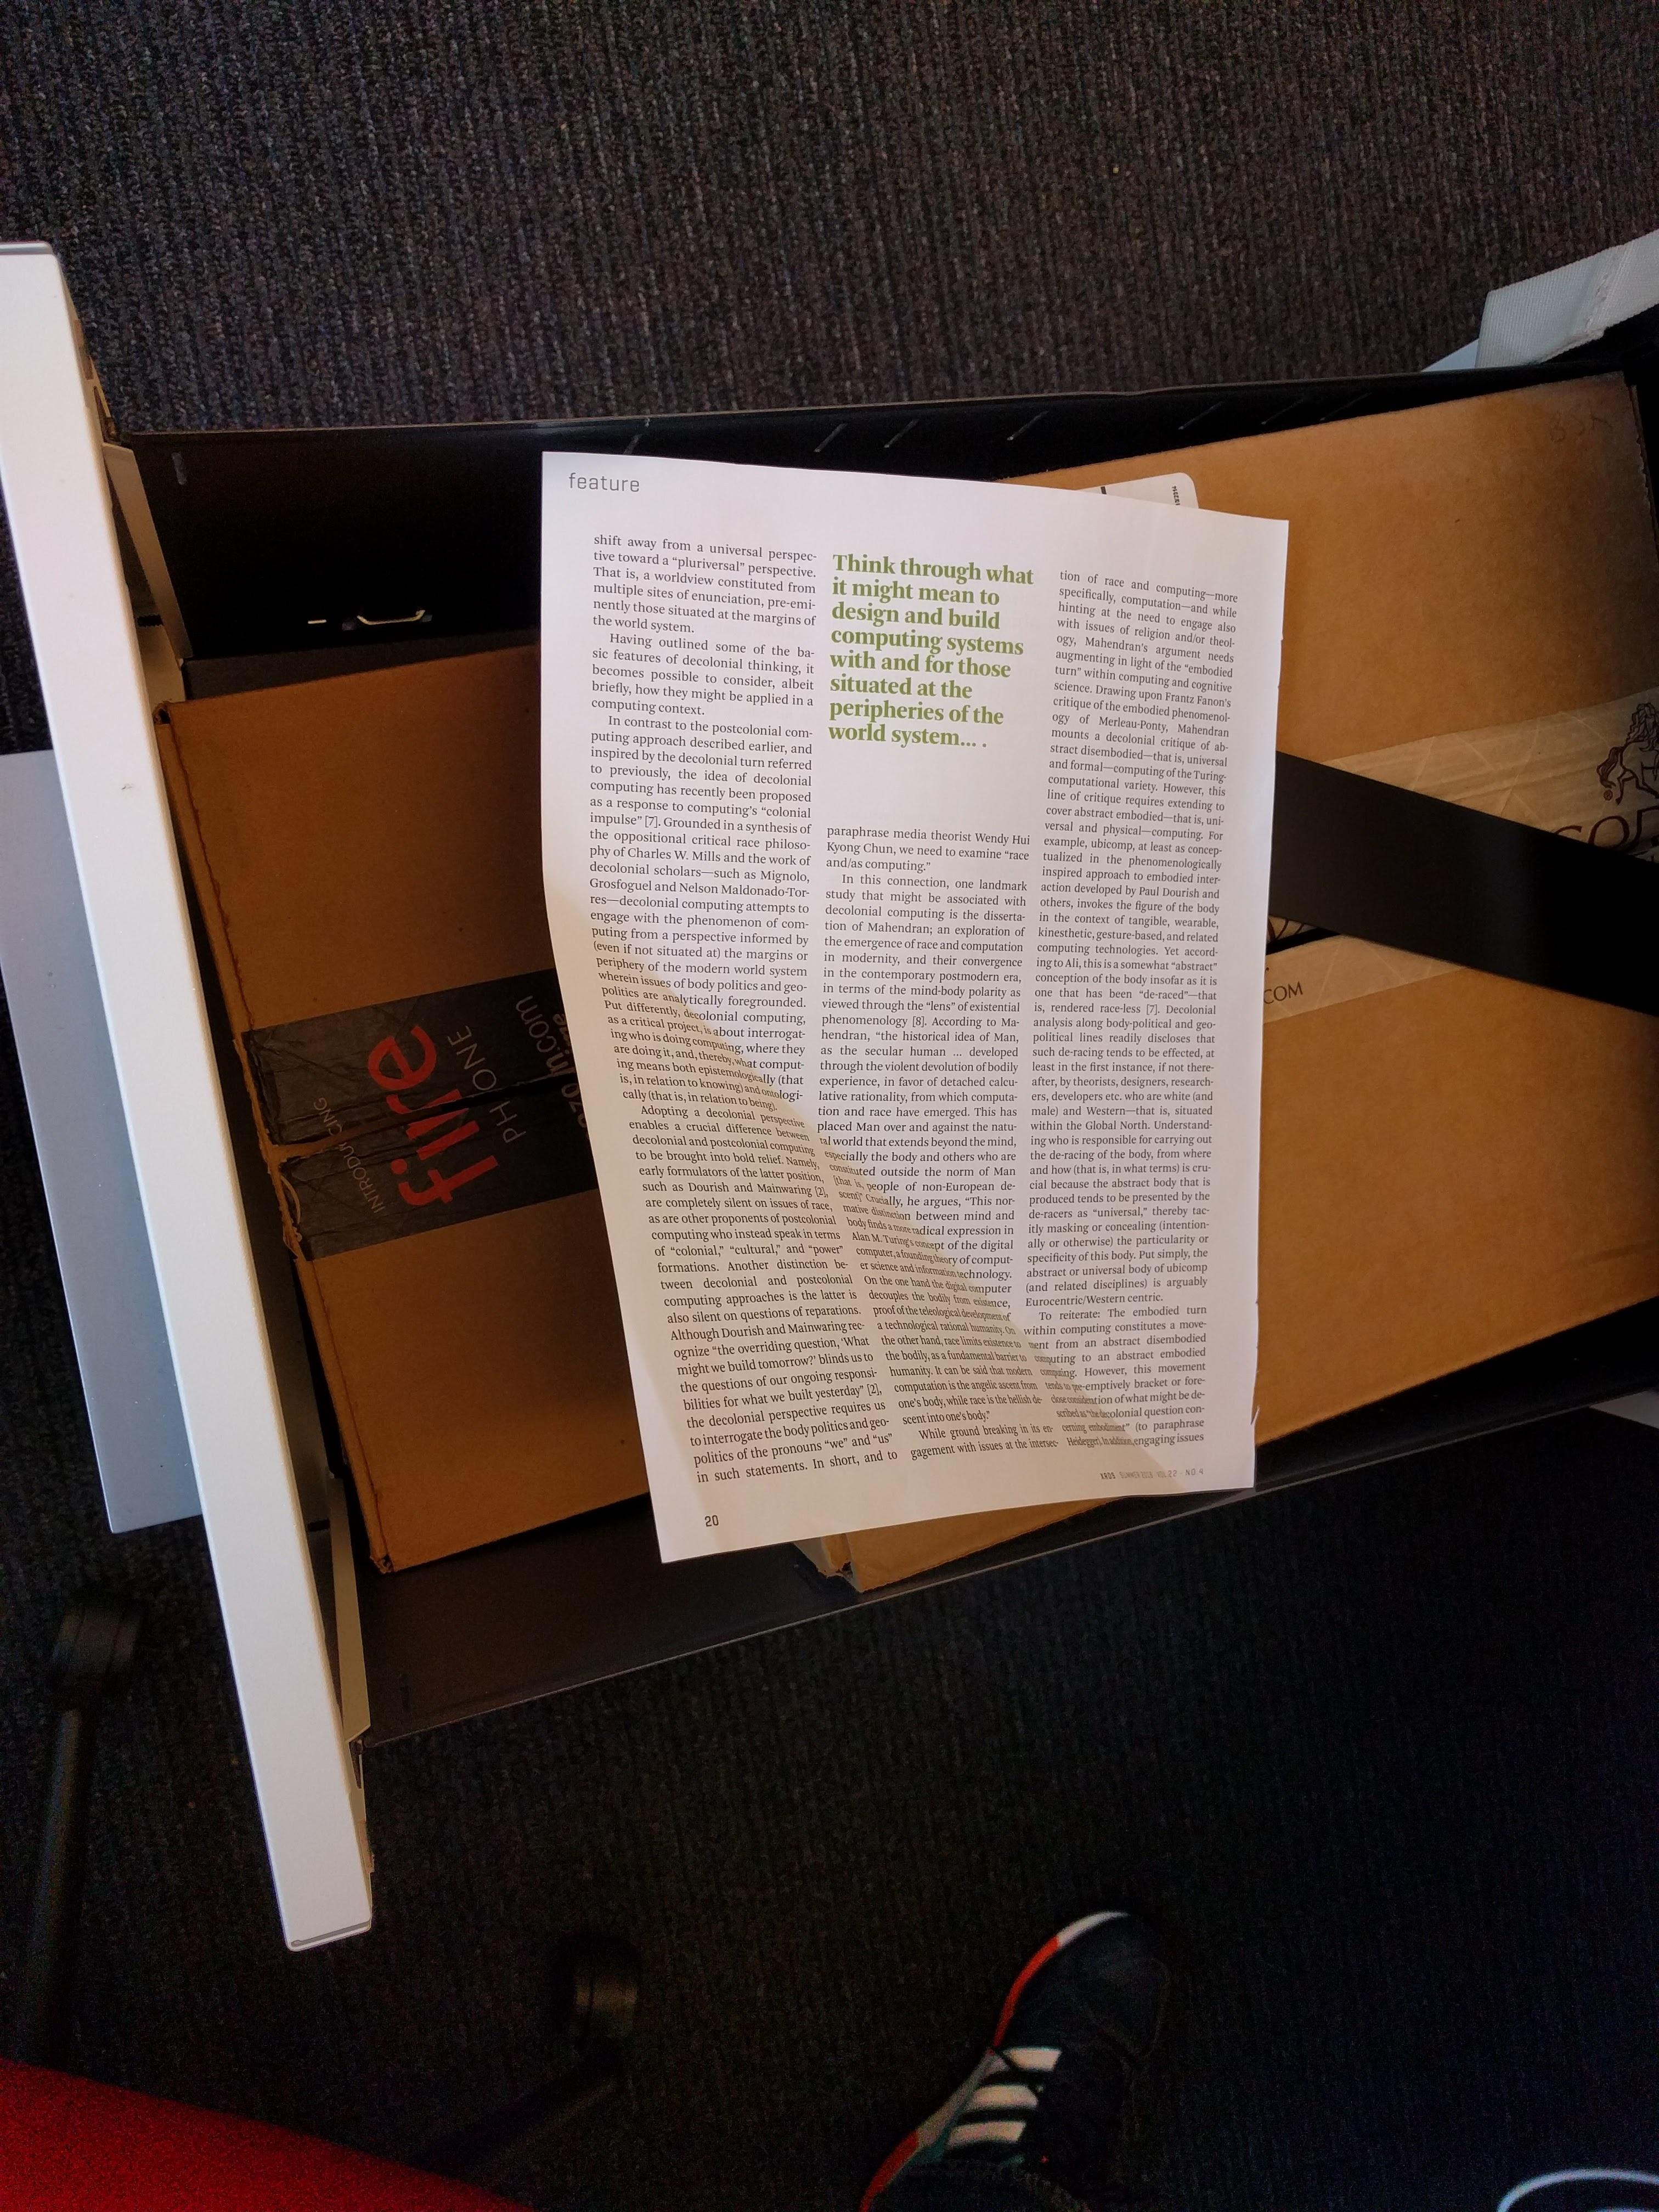paper: (253, 253, 1499, 1709)
